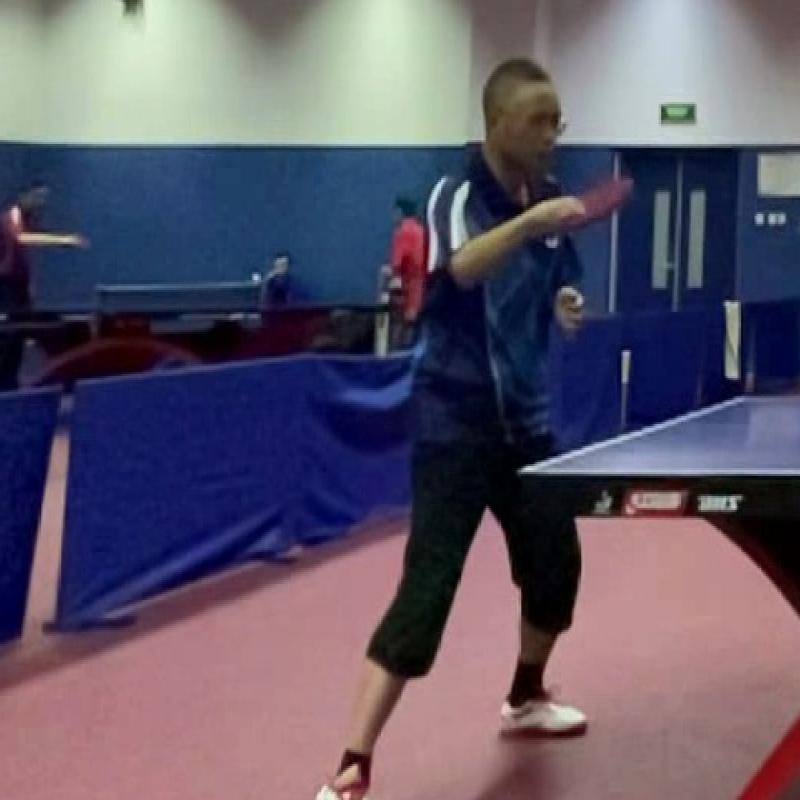bats: (557, 162, 652, 240)
